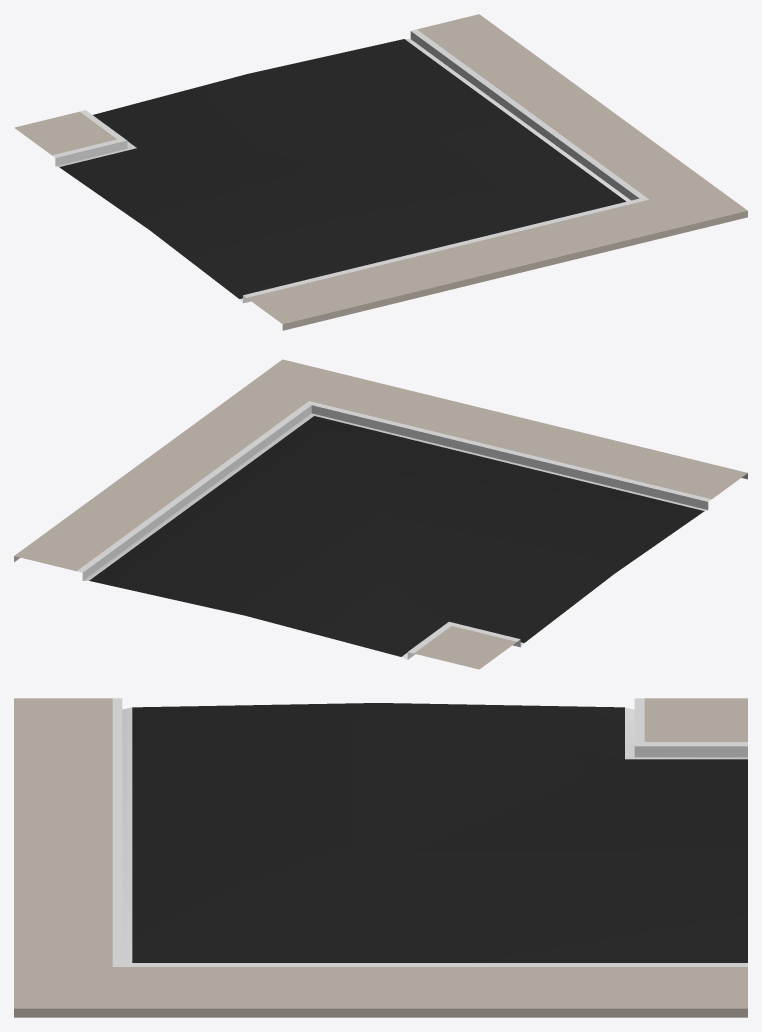
Rendered from Curva_3_Faixas.fbx.
3 renders of one model, top to bottom at view 1: azimuth 30°, elevation 25°; view 2: azimuth 150°, elevation 25°; view 3: azimuth 270°, elevation 25°, orthographic. The views are drawn at different scales.
Parts seen in each view (by area): view 1: Curva_3_Faixas; view 2: Curva_3_Faixas; view 3: Curva_3_Faixas.
Boxes of the visible parts, x1=… form: Curva_3_Faixas: x1=14, y1=14, x2=747, y2=330; Curva_3_Faixas: x1=14, y1=359, x2=747, y2=669; Curva_3_Faixas: x1=14, y1=698, x2=747, y2=1017.
Bounding box in the file's own units: 1490 × 25 × 1490.
